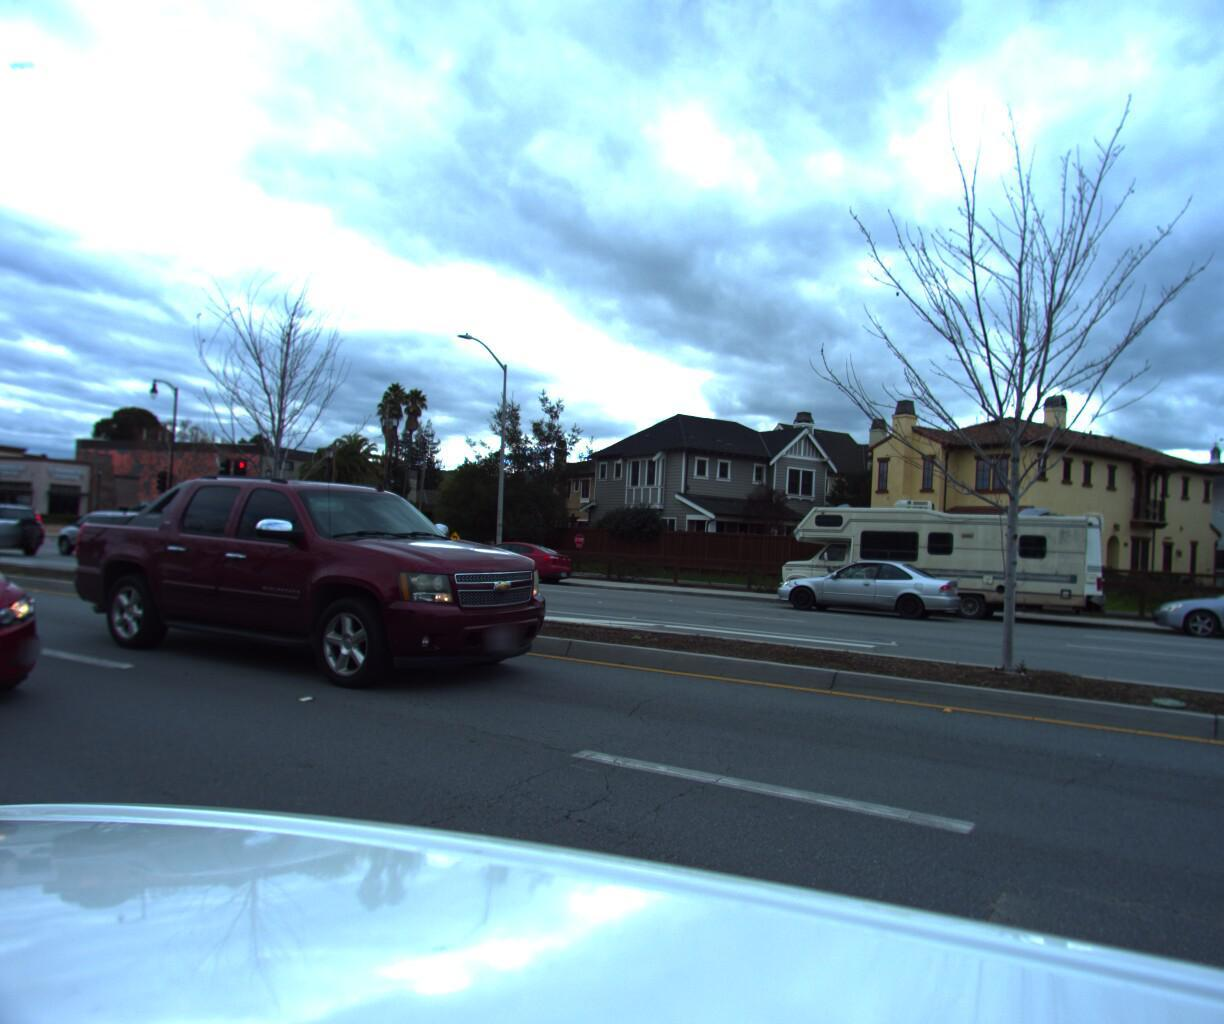car: (46, 467, 575, 714), (0, 487, 83, 766), (775, 556, 981, 630), (1136, 574, 1224, 662), (49, 511, 180, 566), (442, 541, 580, 589), (0, 498, 61, 562)
other_vehicle: (762, 494, 1109, 638)
